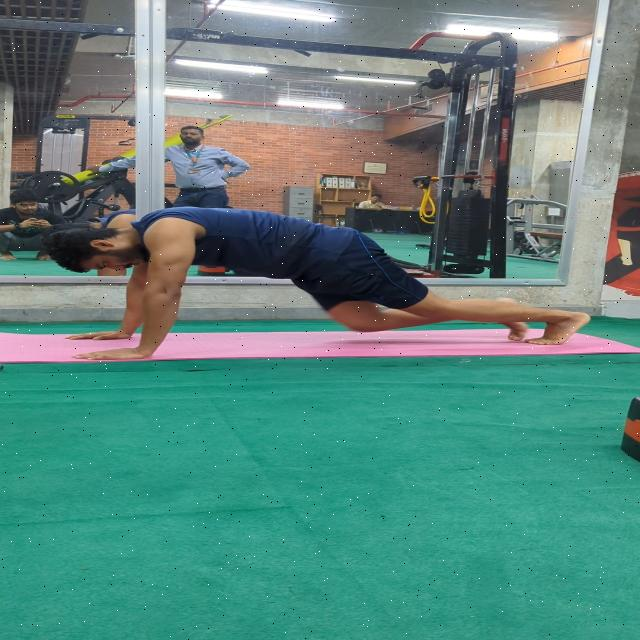Normal_MountainClimbers: (34, 194, 592, 369)
